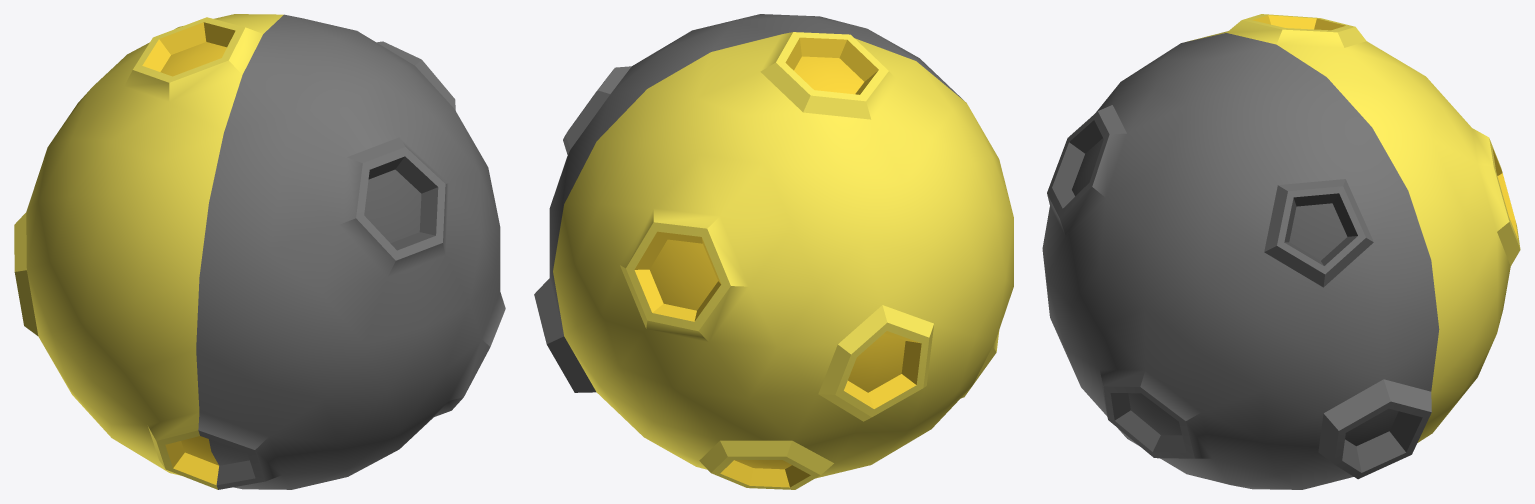
File: waning_crescent_moon.fbx
3 renders of one model, left to right at view 1: azimuth 30°, elevation 25°; view 2: azimuth 150°, elevation 25°; view 3: azimuth 270°, elevation 25°, orthographic. The views are drawn at different scales.
Visible parts, largest first — view 1: Icosphere.007; view 2: Icosphere.007; view 3: Icosphere.007.
Part boxes in pixels (x1,y1,x2,y2): Icosphere.007: (14, 14, 505, 489); Icosphere.007: (534, 14, 1013, 489); Icosphere.007: (1042, 14, 1520, 489).
Bounding box in the file's own units: 197 × 204 × 203.
1 material, 1 textured.
